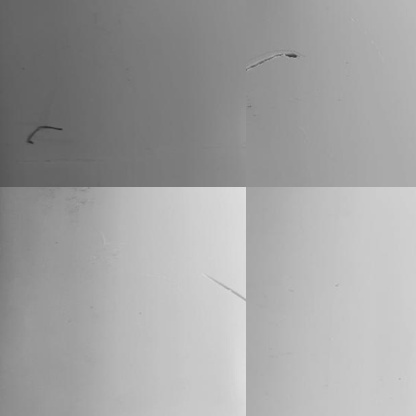fengxi: (24, 120, 68, 146), (248, 49, 298, 65)
